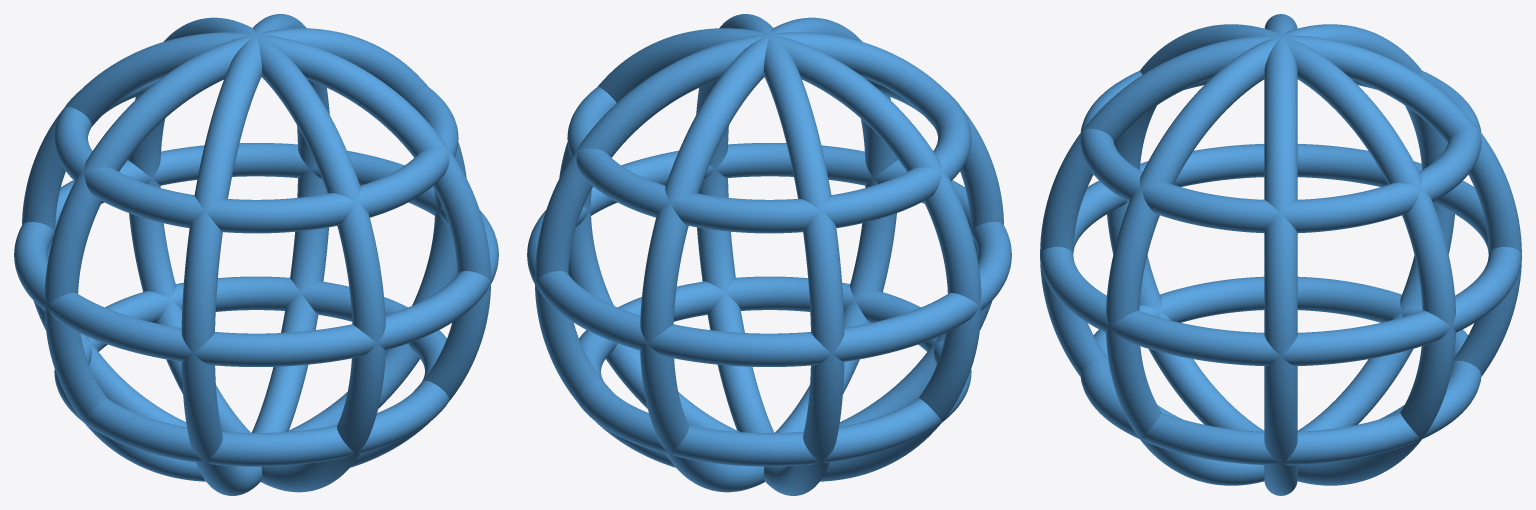
File: internet.glb
The picture shows the model from 3 angles, left to right: view 1: azimuth 30°, elevation 25°; view 2: azimuth 150°, elevation 25°; view 3: azimuth 270°, elevation 25°; orthographic projection.
Parts seen in each view (by area): view 1: Object_2; view 2: Object_2; view 3: Object_2.
Boxes of the visible parts, bbox=[...] form: Object_2: bbox=[14, 14, 498, 495]; Object_2: bbox=[527, 14, 1011, 495]; Object_2: bbox=[1040, 14, 1521, 495].
Bounding box in the file's own units: 9.25 × 9.25 × 9.25.
